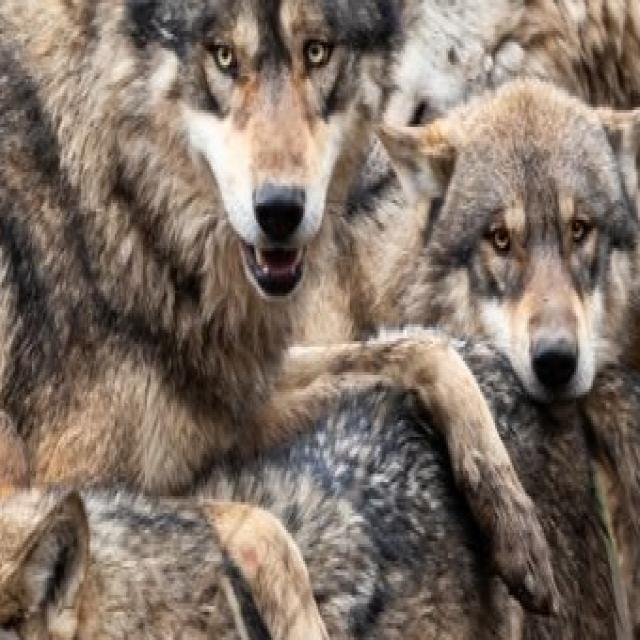wolf: (0, 0, 435, 640), (0, 324, 640, 640), (384, 51, 640, 465)
